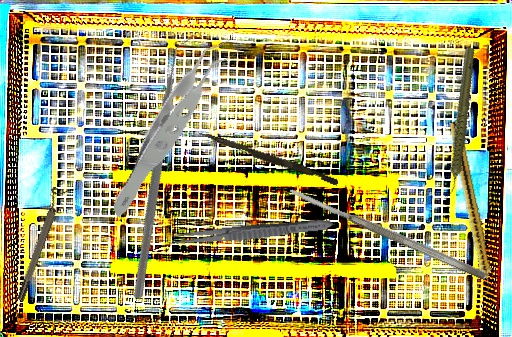Chopper: (48, 34, 283, 300)
Dressing Forceps: (168, 215, 334, 250)
Fixation Ring: (10, 186, 68, 302)
Handpiece: (412, 44, 506, 200), (445, 120, 497, 297)
Pusher: (196, 130, 340, 186)
Spatula Surgical: (288, 184, 488, 283)
Tissue Forceps: (67, 35, 283, 220)
